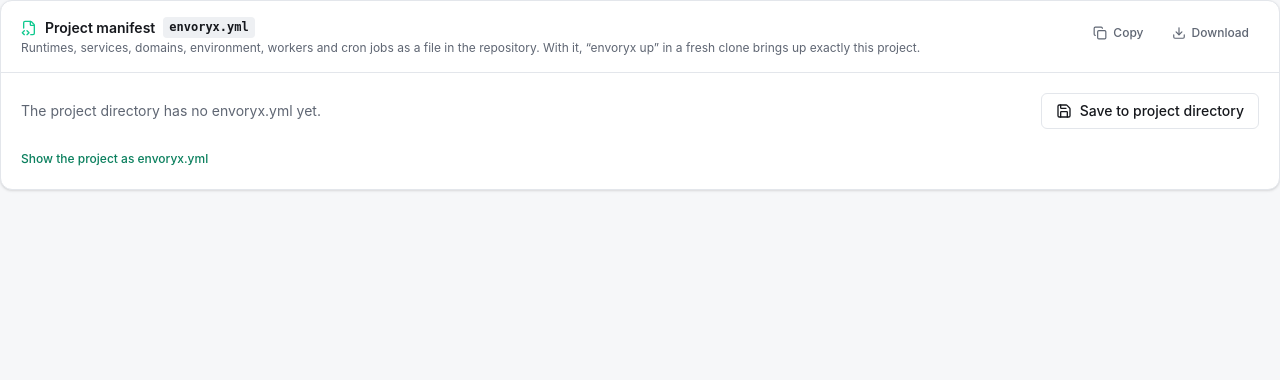
it: ManifestCard › saves the manifest into a project directory that has none
Check: the text "The project directory has no envoryx.yml yet." is shown, box [21, 101, 321, 121]
Click the button "Show the project as envoryx.yml". click: {"x": 115, "y": 159}
box: [21, 151, 208, 167]
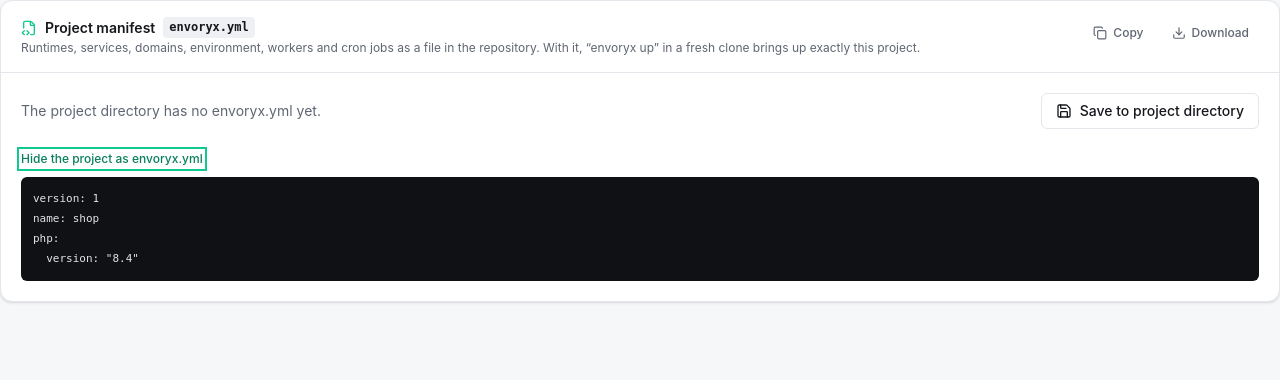
Check: the text "version: 1 name: shop php: version: \"8.4\"" is shown, box [21, 177, 1259, 281]
Click the button "Save to project directory". click: {"x": 1150, "y": 111}
box: [1041, 93, 1259, 129]
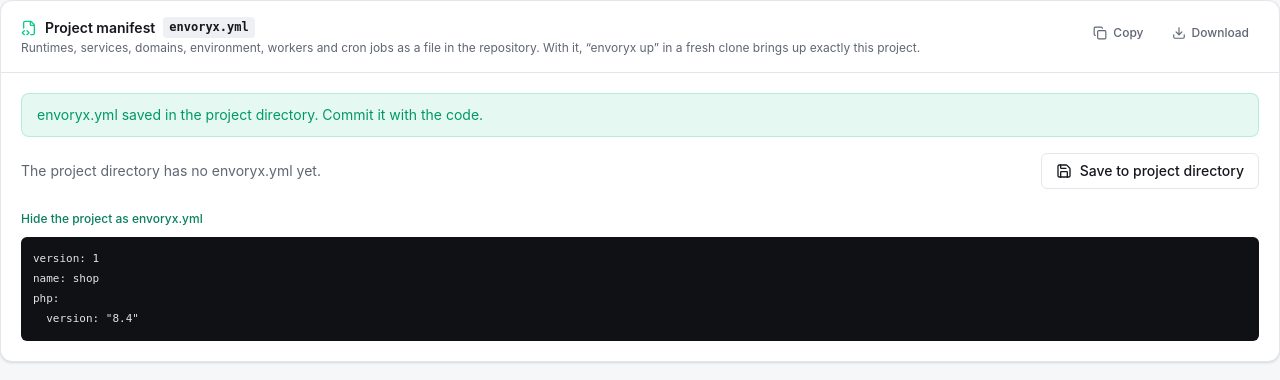
Check: the text "Commit it with the code" is shown, box [37, 106, 483, 123]
